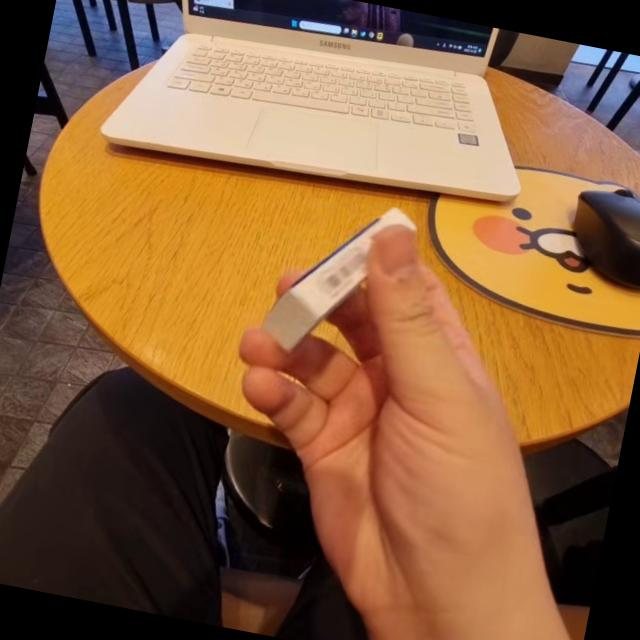eraser: (282, 178, 406, 368)
grab_eraser: (187, 188, 610, 640)
mouse: (571, 178, 640, 303)
